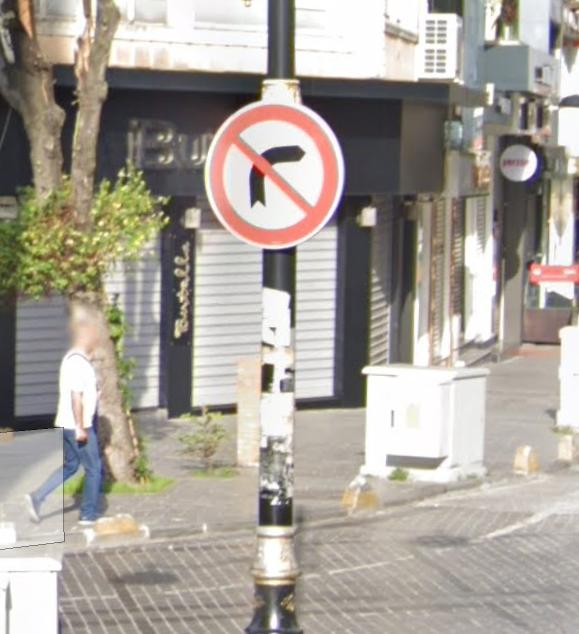rightturnsareforbidden: (207, 101, 346, 242)
